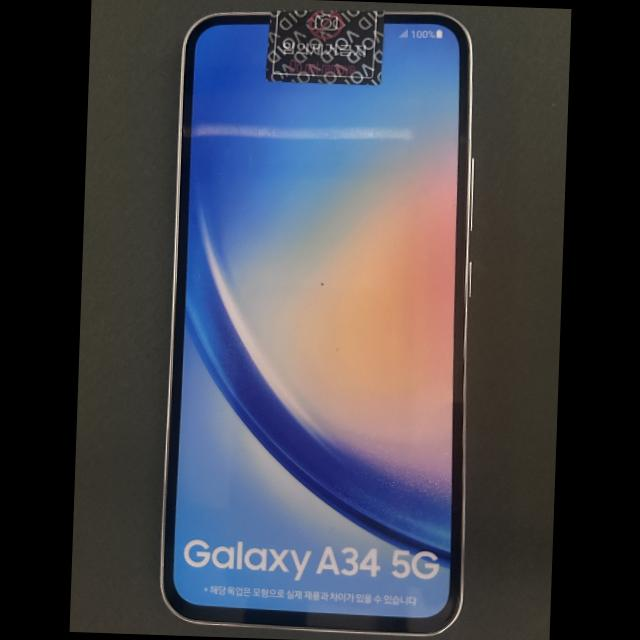phone: (159, 11, 473, 635)
sticker: (265, 8, 385, 85)
